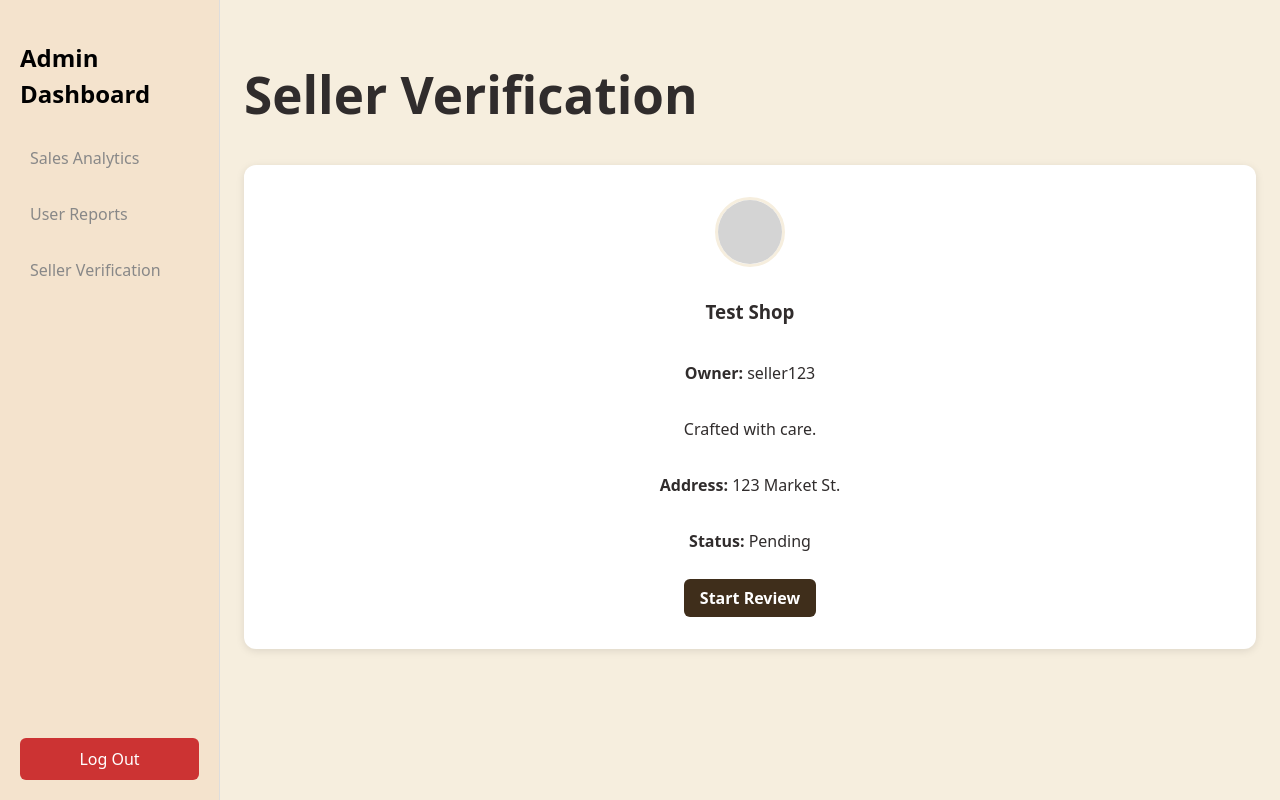
Test: when you press approve button the seller status changes to "Approved"
The width and height of the screenshot is (1280, 800).
Click the button "Start Review" at (750, 598), box [684,579,816,617]
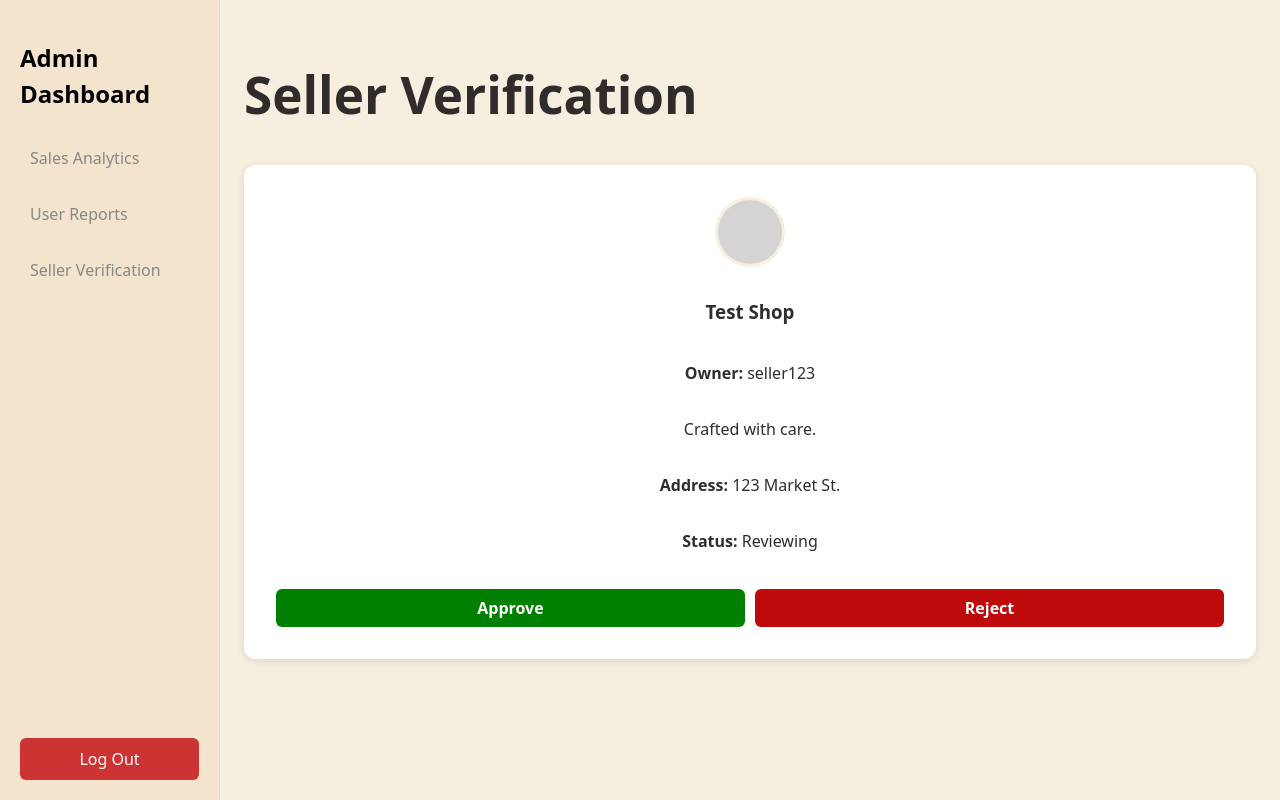
Click the button "Approve" at (510, 608), box [276,589,745,627]
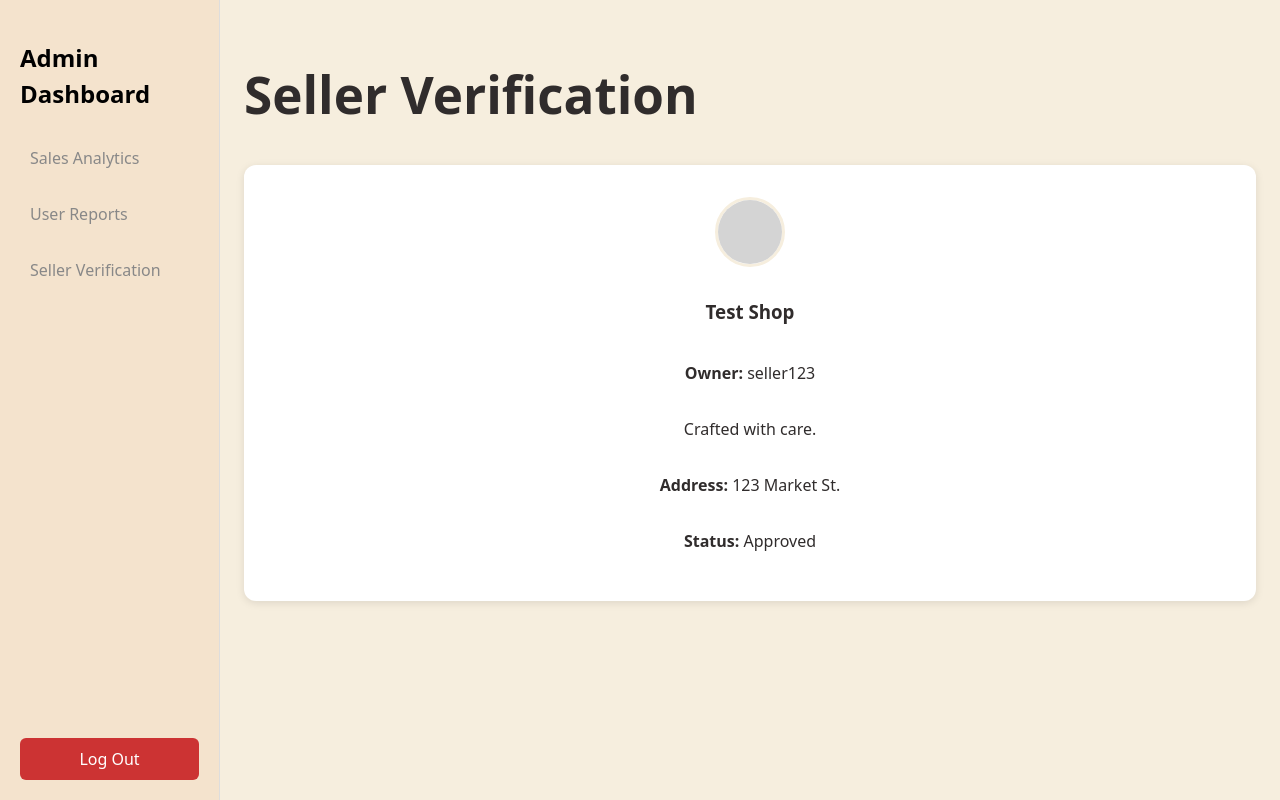
Expected: the element with test id "seller-status" shows "Approved", [744,530,816,552]
